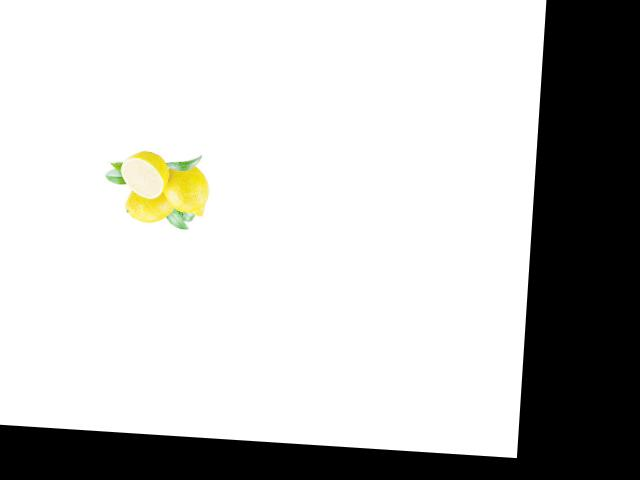lemon: (159, 157, 214, 223)
